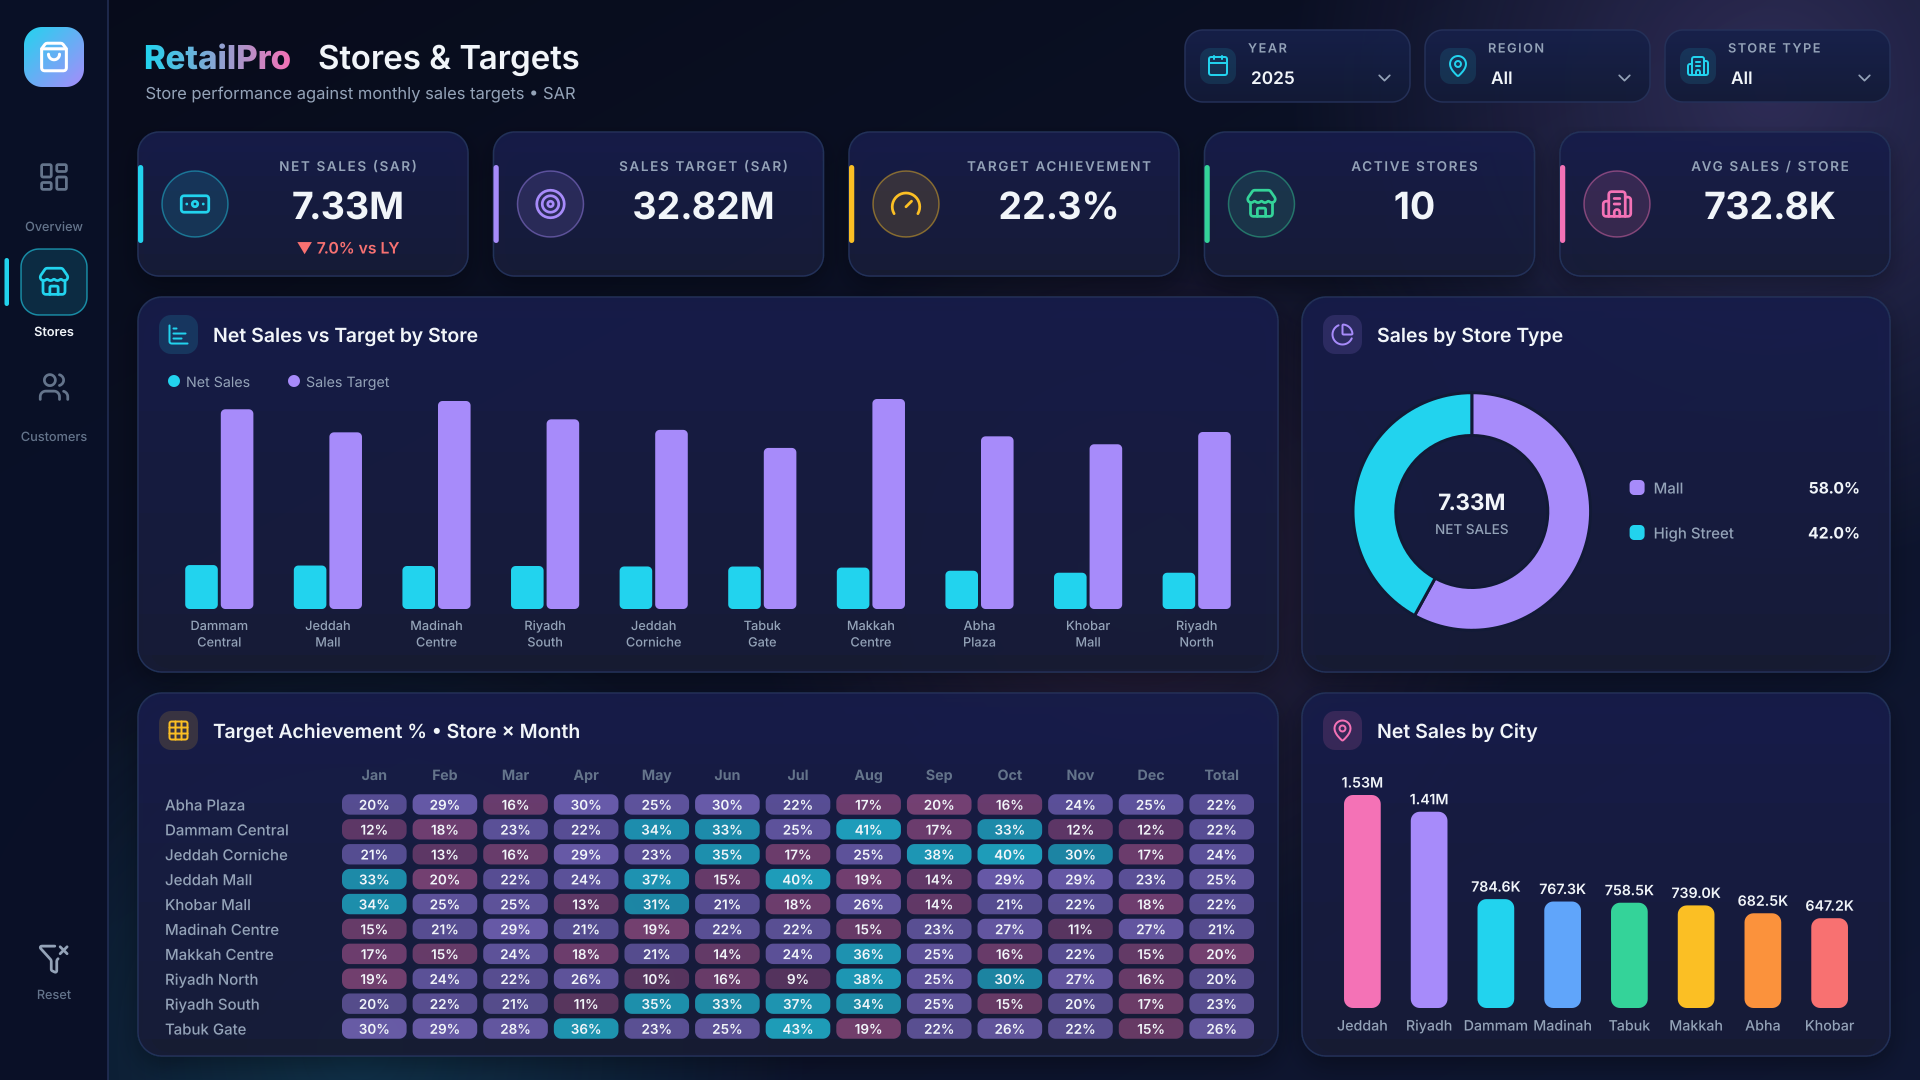

What the dashboard file says about the page in this screenshot:
{"tool":"powerbi","page":{"name":"Stores & Targets","canvas":[1280,720],"ordinal":1},"visuals":[{"type":"slicer","fields":{"Values":["Calendar5.Year"]},"box":[828,38,106,28],"z":1000},{"type":"slicer","fields":{"Values":["Stores3.Region"]},"box":[988,38,106,28],"z":1001},{"type":"slicer","fields":{"Values":["Stores3.StoreType"]},"box":[1148,38,106,28],"z":1002},{"type":"card","fields":{"Values":["_Measures.Net Sales"]},"box":[158,100,148,58],"z":1003},{"type":"card","fields":{"Values":["_Measures.Net Sales YoY Label"]},"box":[158.1,129.1,147.7,54.7],"z":1004},{"type":"card","fields":{"Values":["_Measures.Sales Target"]},"box":[395,100,148,58],"z":1005},{"type":"card","fields":{"Values":["_Measures.Target Achievement %"]},"box":[632,100,148,58],"z":1006},{"type":"card","fields":{"Values":["_Measures.Active Stores"]},"box":[869,100,148,58],"z":1007},{"type":"card","fields":{"Values":["_Measures.Avg Sales per Store"]},"box":[1106,100,148,58],"z":1008},{"type":"clusteredColumnChart","fields":{"Category":["Stores3.StoreName"],"Y":["_Measures.Net Sales","_Measures.Sales Target"]},"box":[100,242,744,198],"z":1009},{"type":"donutChart","fields":{"Category":["Stores3.StoreType"],"Y":["_Measures.Net Sales"]},"box":[876,242,376,198],"z":1010},{"type":"pivotTable","fields":{"Columns":["Calendar5.Month Short"],"Rows":["Stores3.StoreName"],"Values":["_Measures.Target Achievement %"]},"box":[100,506,744,190],"z":1011},{"type":"columnChart","fields":{"Category":["Stores3.City"],"Series":["Stores3.City"],"Y":["_Measures.Net Sales"]},"box":[876,506,376,190],"z":1012},{"type":"actionButton","box":[10,94,52,64],"z":5000},{"type":"actionButton","box":[10,164,52,64],"z":5001},{"type":"actionButton","box":[10,234,52,64],"z":5002},{"type":"actionButton","box":[10,620,52,56],"z":5010}]}

Visuals, with their boxes on the page's 1280x720 design canvas (x1, y1, x2, y2). These are canvas units, not pixel positions in the 1920x1080 screenshot, which may show the page scaled, cropped or inside an application window:
slicer - Calendar5.Year: BBox(828, 38, 934, 66)
slicer - Stores3.Region: BBox(988, 38, 1094, 66)
slicer - Stores3.StoreType: BBox(1148, 38, 1254, 66)
card - _Measures.Net Sales: BBox(158, 100, 306, 158)
card - _Measures.Net Sales YoY Label: BBox(158, 129, 306, 184)
card - _Measures.Sales Target: BBox(395, 100, 543, 158)
card - _Measures.Target Achievement %: BBox(632, 100, 780, 158)
card - _Measures.Active Stores: BBox(869, 100, 1017, 158)
card - _Measures.Avg Sales per Store: BBox(1106, 100, 1254, 158)
clusteredColumnChart - Stores3.StoreName x _Measures.Net Sales: BBox(100, 242, 844, 440)
donutChart - Stores3.StoreType x _Measures.Net Sales: BBox(876, 242, 1252, 440)
pivotTable - Calendar5.Month Short x Stores3.StoreName: BBox(100, 506, 844, 696)
columnChart - Stores3.City x Stores3.City: BBox(876, 506, 1252, 696)
actionButton: BBox(10, 94, 62, 158)
actionButton: BBox(10, 164, 62, 228)
actionButton: BBox(10, 234, 62, 298)
actionButton: BBox(10, 620, 62, 676)
